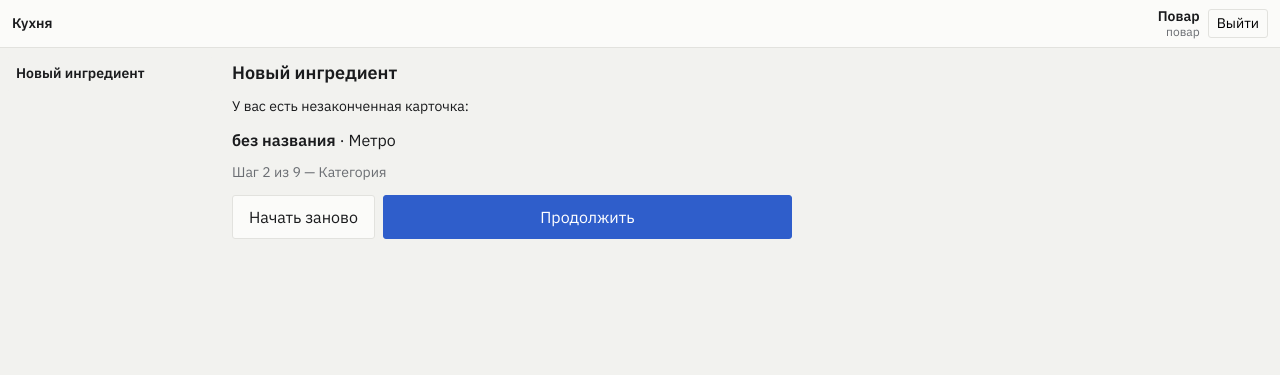
Test: «Начать заново» сперва спрашивает, затем удаляет черновик и заводит новый
This screenshot has width=1280, height=375.
Click the button "Начать заново".
click(303, 217)  # box top-left (232, 195), bottom-right (375, 239)
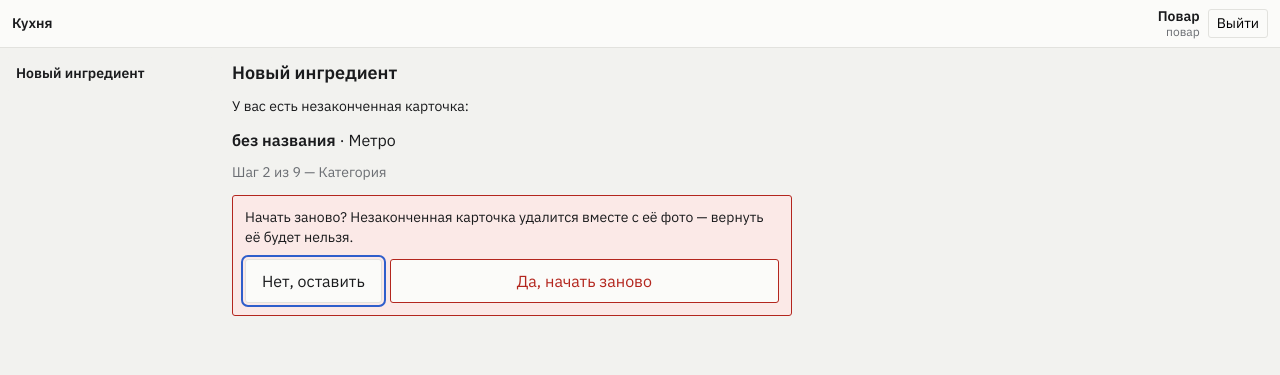
Check: the text "удалится" is shown, box top-left (245, 208), bottom-right (764, 246)
Click the button "Нет, оставить".
click(313, 281)  # box top-left (245, 259), bottom-right (382, 303)
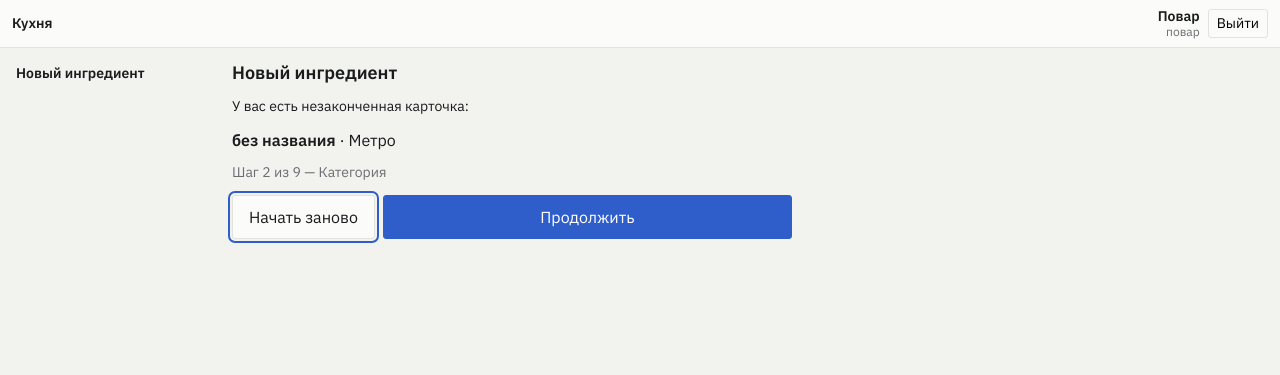
Check: the button "Продолжить" is shown, box top-left (383, 195), bottom-right (792, 239)
Click the button "Начать заново".
click(303, 217)  # box top-left (232, 195), bottom-right (375, 239)
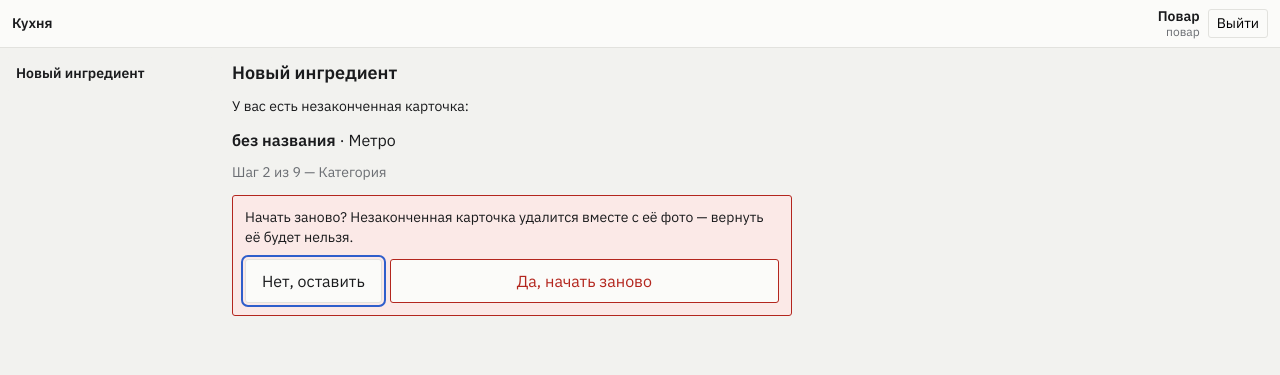
Click the button "Да, начать заново".
click(584, 281)  # box top-left (390, 259), bottom-right (779, 303)
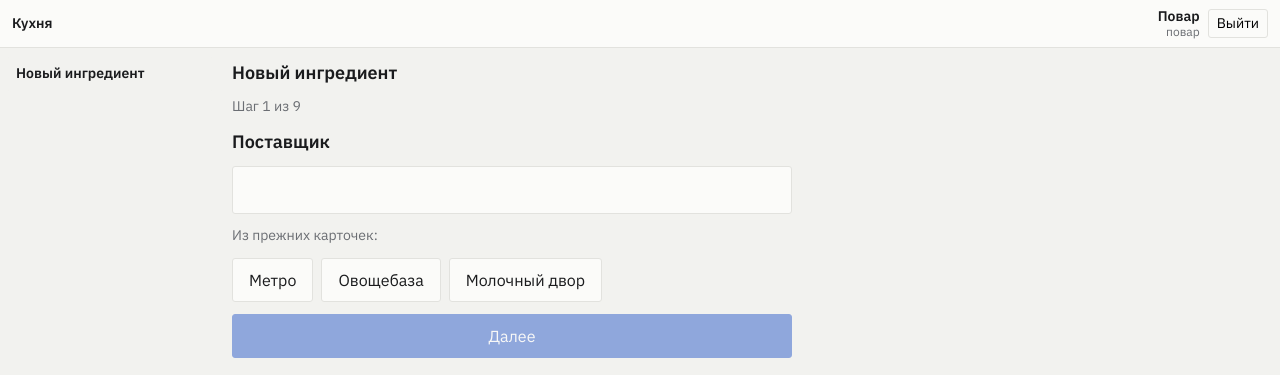
Check: the text "Шаг 1 из 9" is shown, box top-left (232, 97), bottom-right (301, 115)
Check: the field labelled "Поставщик" is empty, box top-left (232, 166), bottom-right (792, 214)
